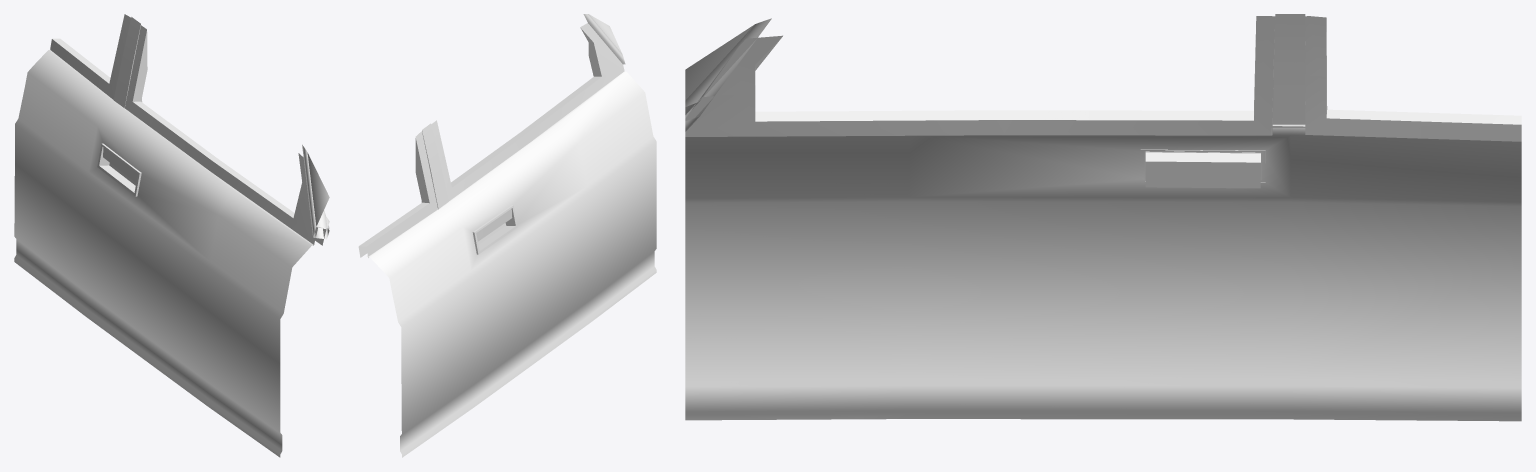
The picture shows the model from 3 angles, left to right: view 1: azimuth 30°, elevation 25°; view 2: azimuth 150°, elevation 25°; view 3: azimuth 270°, elevation 25°; orthographic projection. The views are drawn at different scales.
Bounding box in the file's own units: 0.1284 × 0.6826 × 1.16.
1 material, 1 textured.
